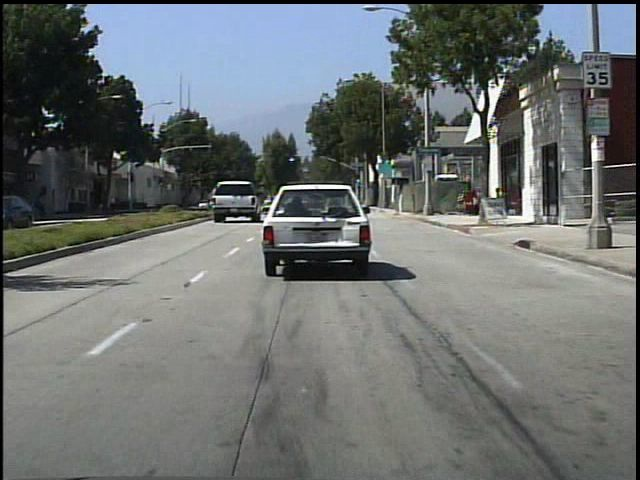person: (34, 195, 53, 226)
